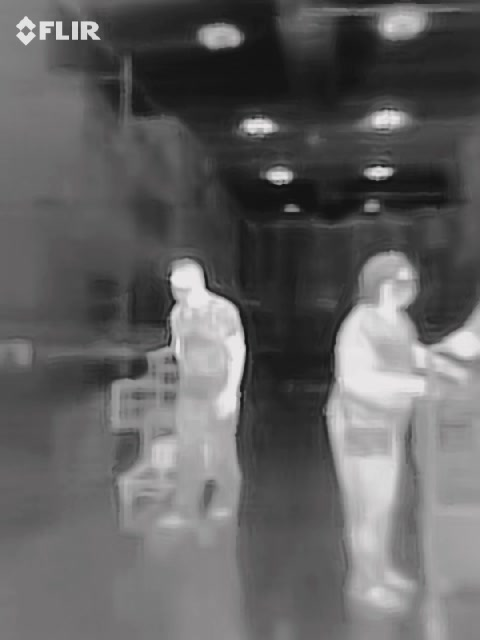head: (356, 252, 420, 313), (169, 258, 205, 305)
